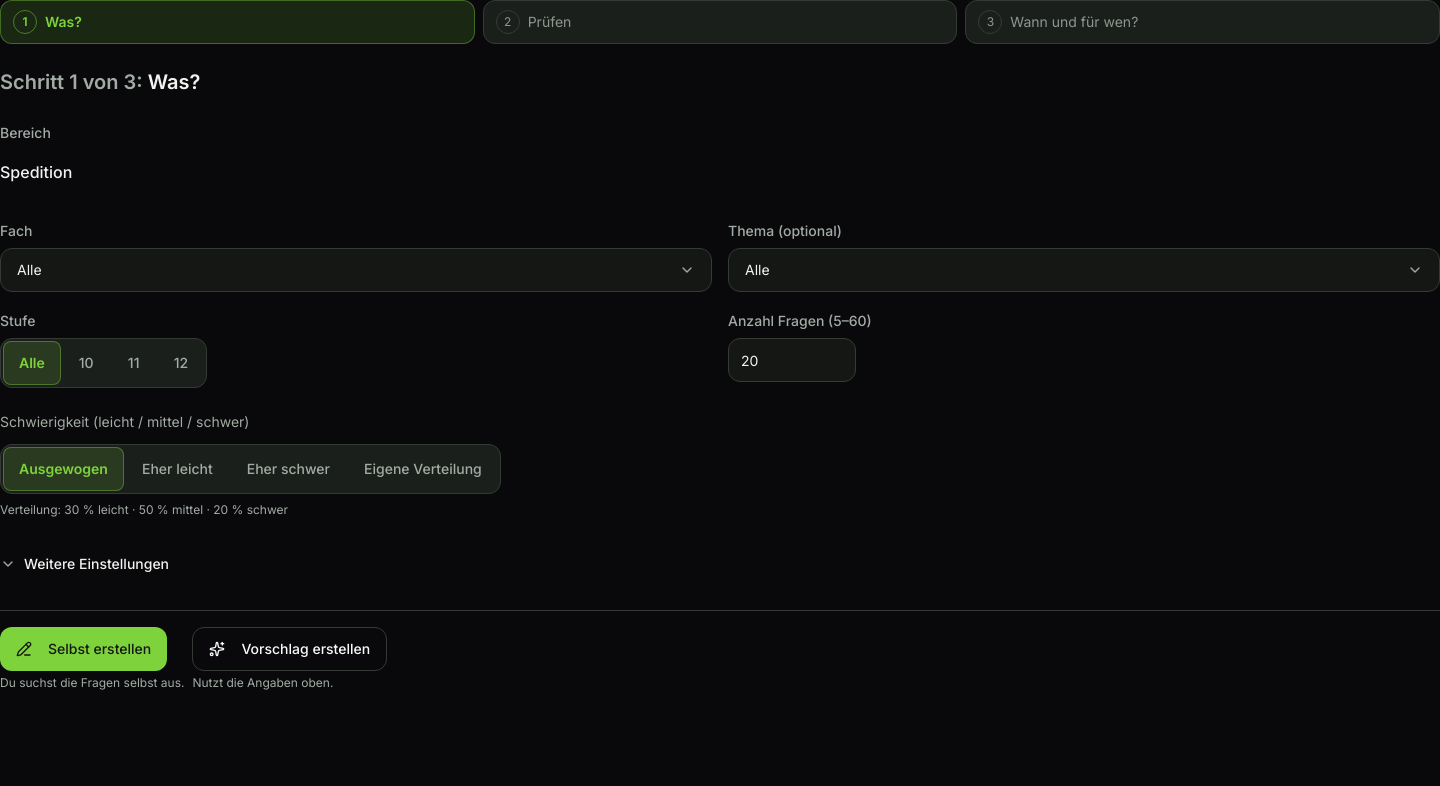
Test: Nachweis anlegen in drei Schritten (PROJ-133) › erlaubt „Weiter“ erst ab 5 Fragen und nennt, wie viele fehlen
Click the button with aria-label "Fach: Alle" at (29, 270), box [0, 248, 712, 292]
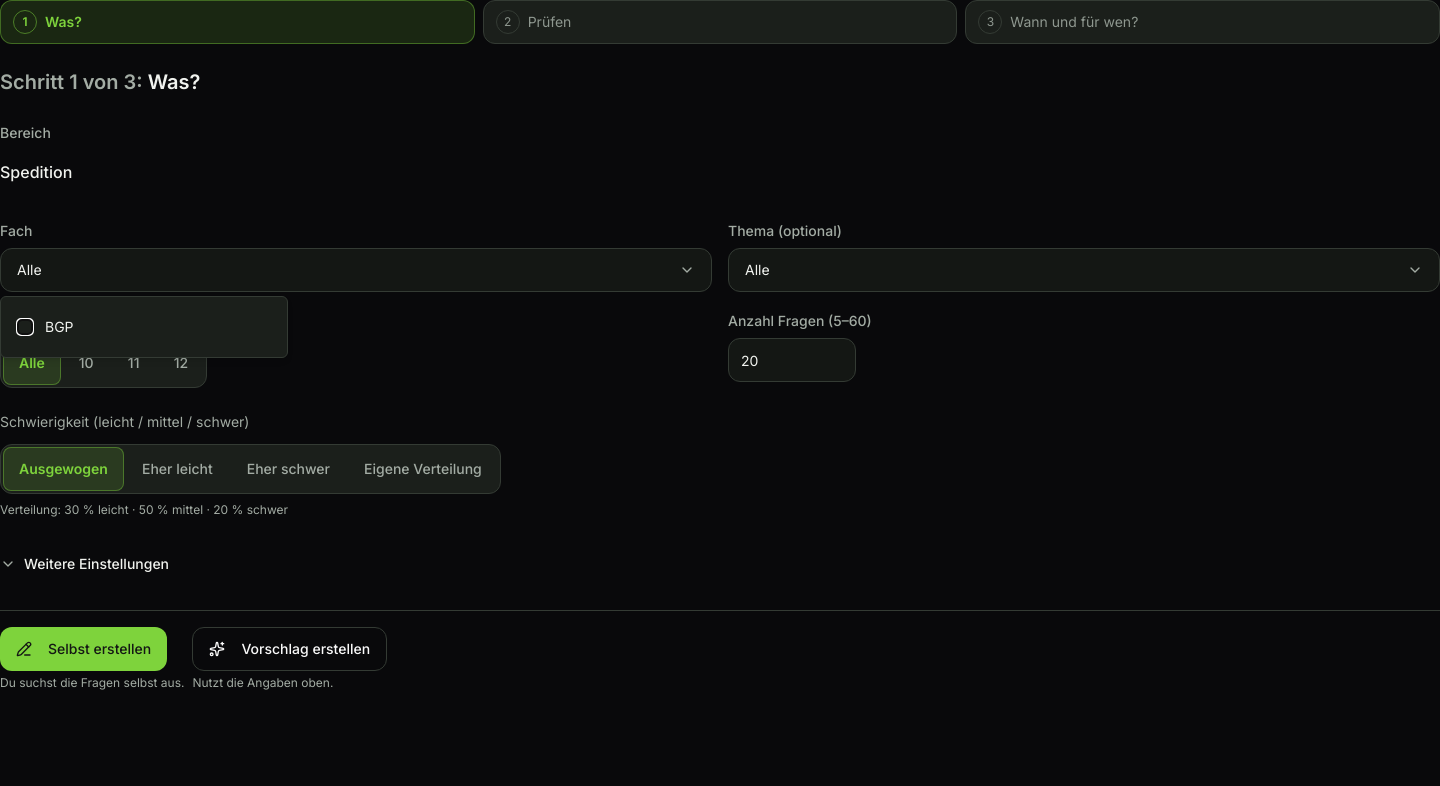
Click the checkbox named "BGP" at (25, 327), box [17, 319, 33, 335]
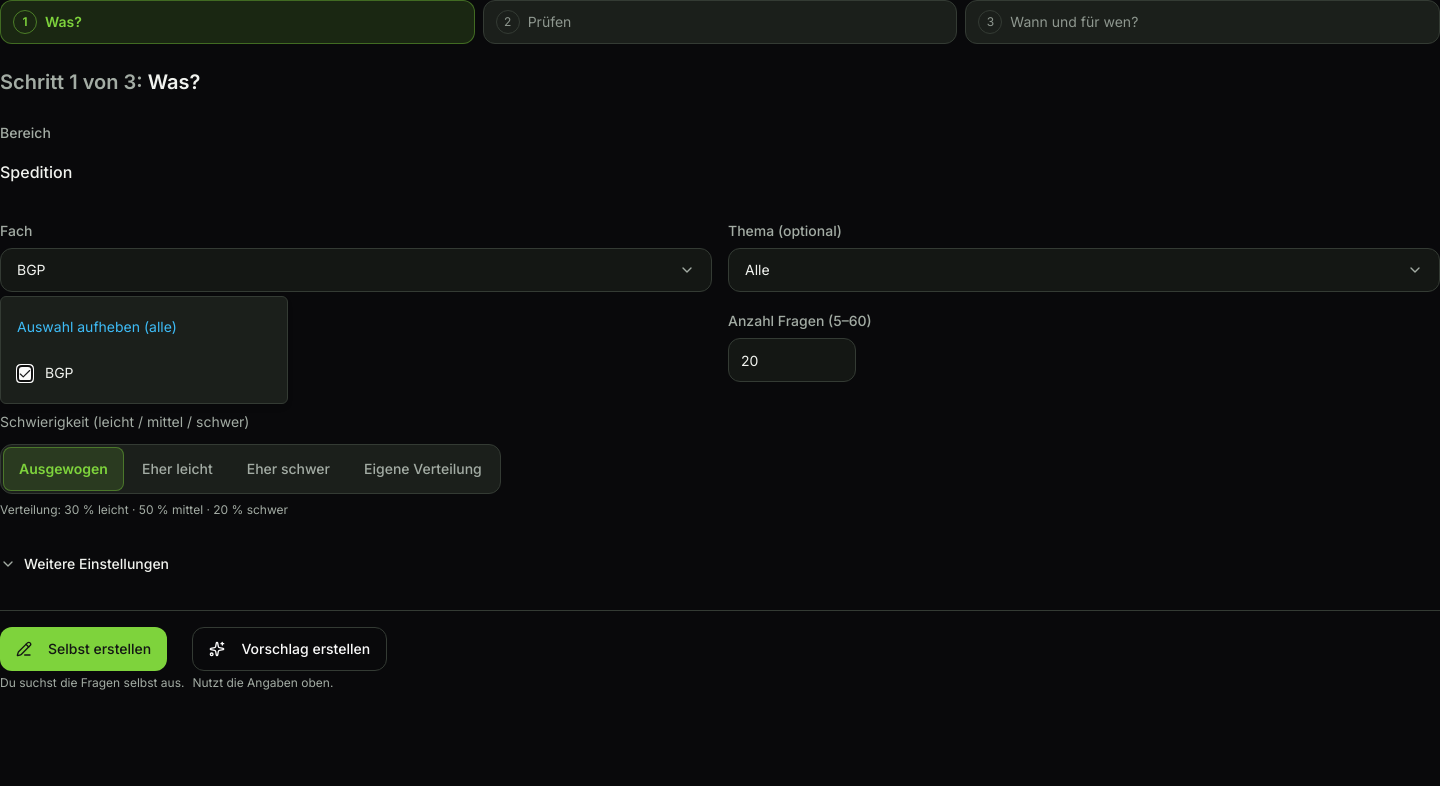
Press Escape in the checkbox named "BGP", box [17, 365, 33, 381]
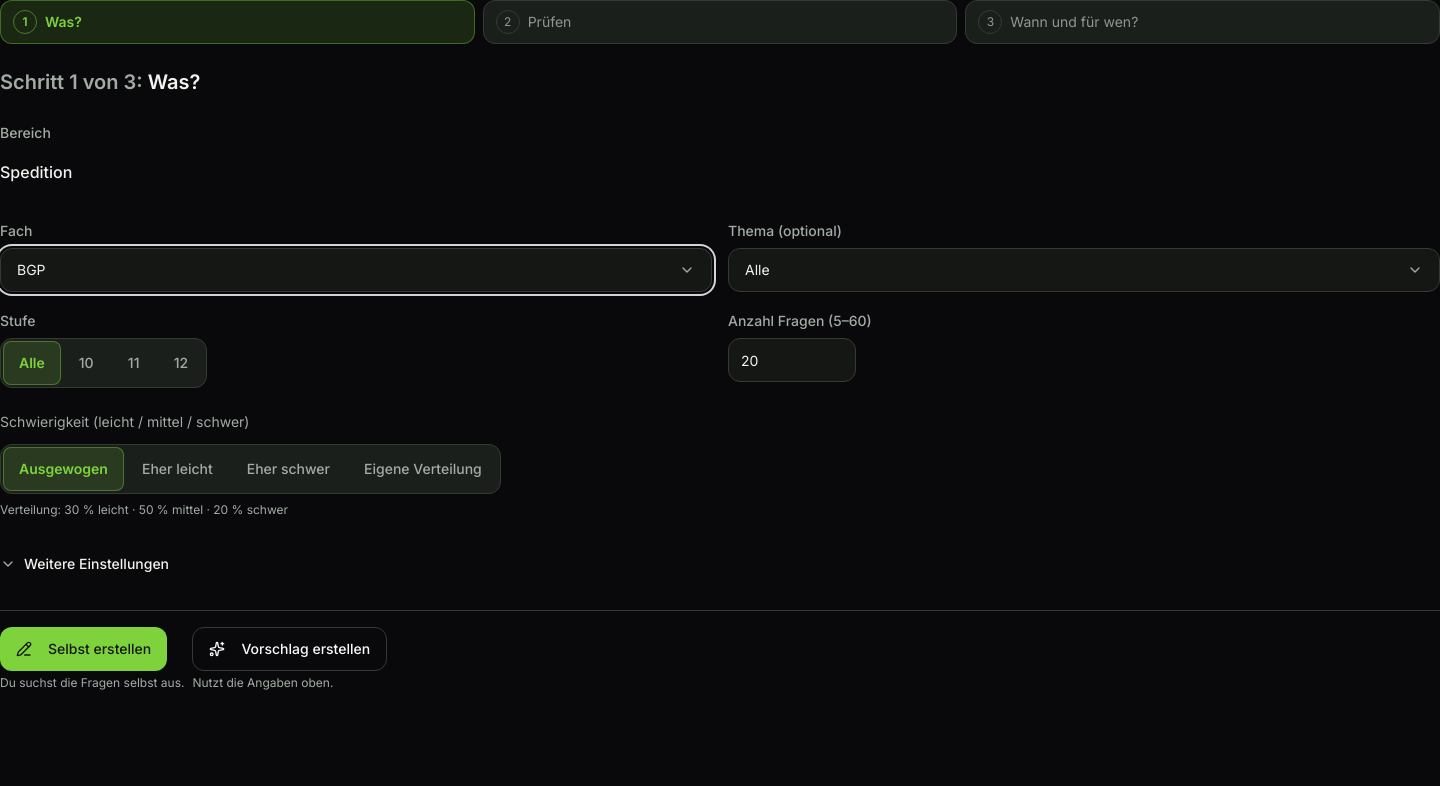
Click the button "Vorschlag erstellen" at (290, 649), box [192, 627, 387, 671]
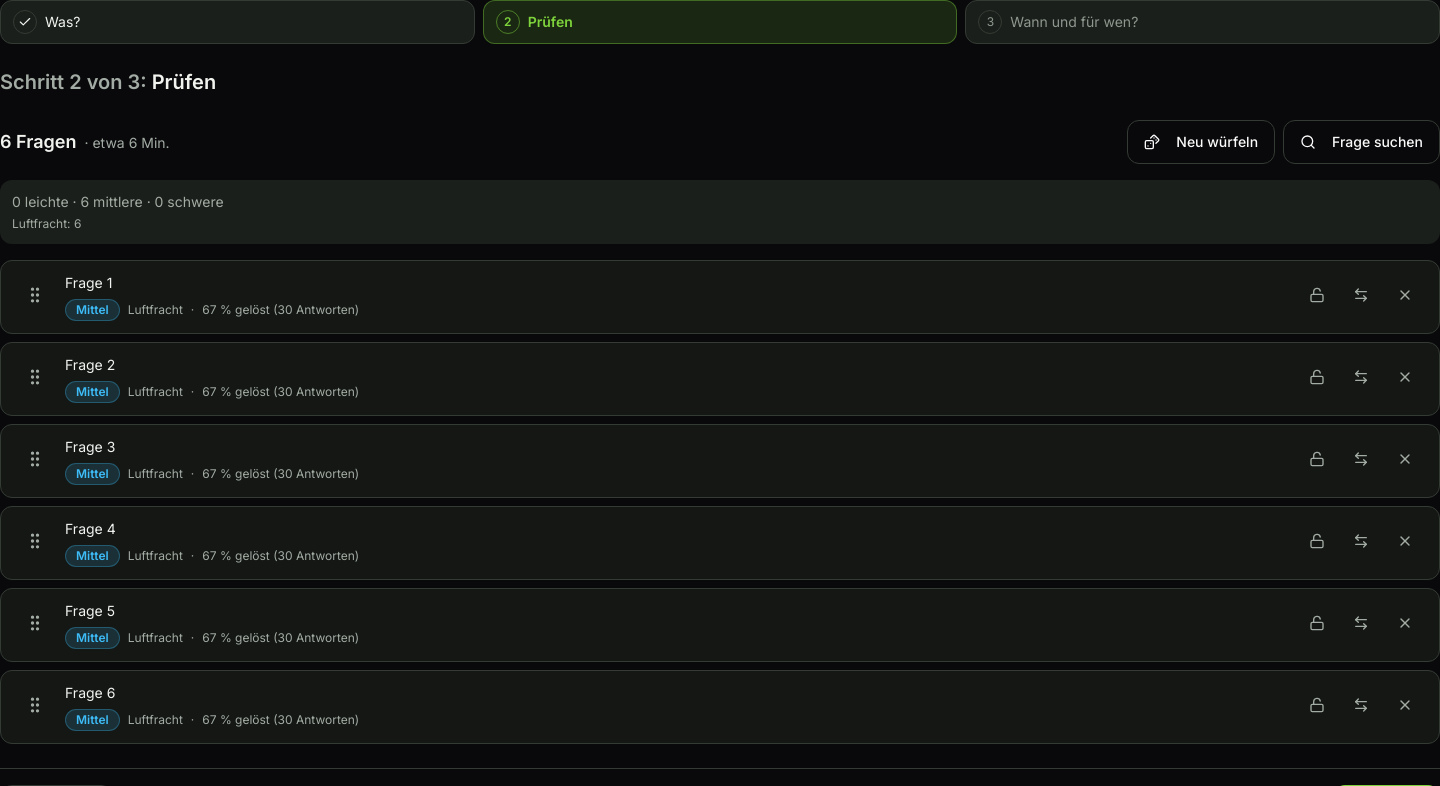
Expected: the text "6 Fragen· etwa 6 Min." is shown, [0, 128, 170, 156]
Click the button named "Frage entfernen" in the row of "Frage 1" at (1405, 295), box [1383, 273, 1427, 317]
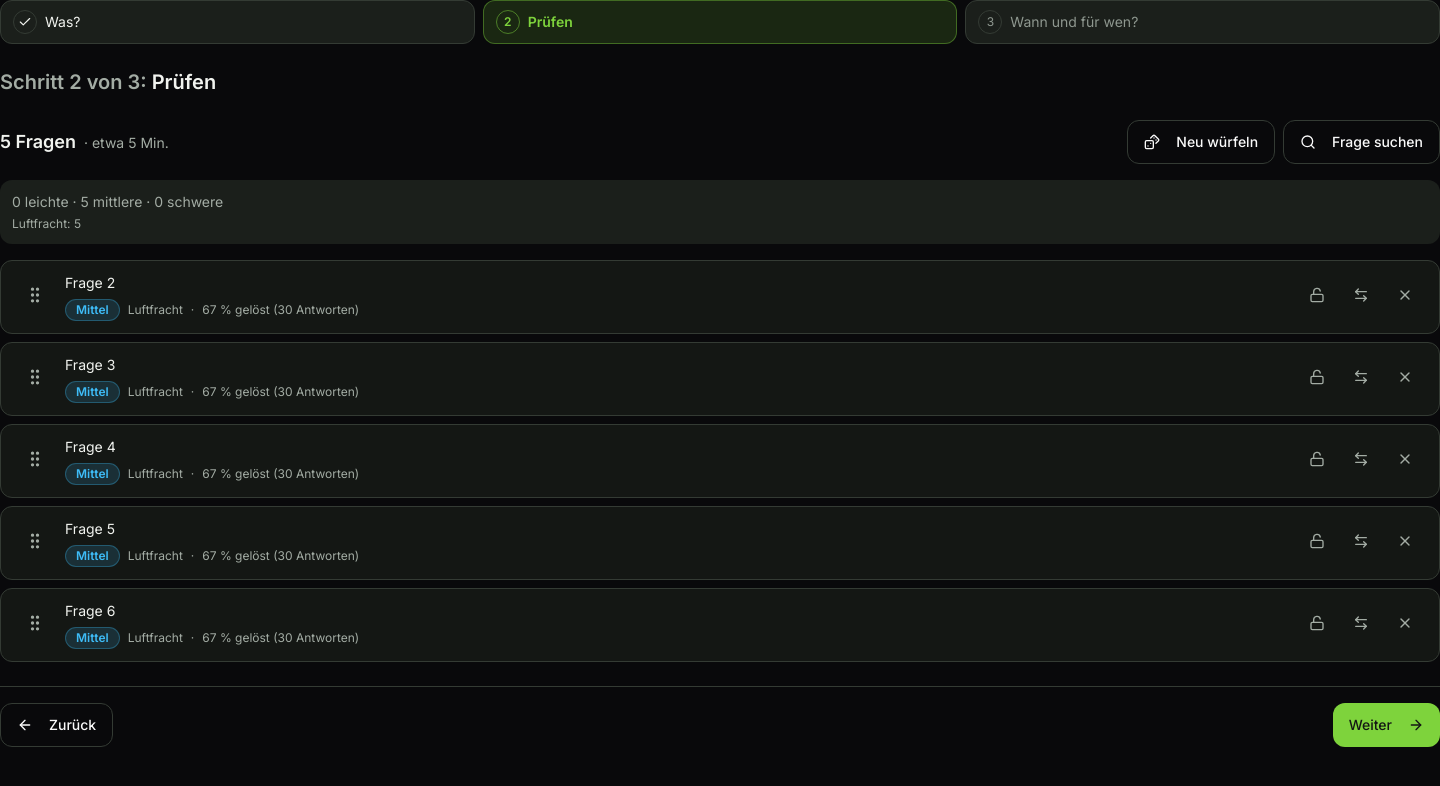
Expected: the button "Weiter" is enabled, [1333, 703, 1439, 747]
Click the button named "Frage entfernen" in the row of "Frage 2" at (1405, 295), box [1383, 273, 1427, 317]
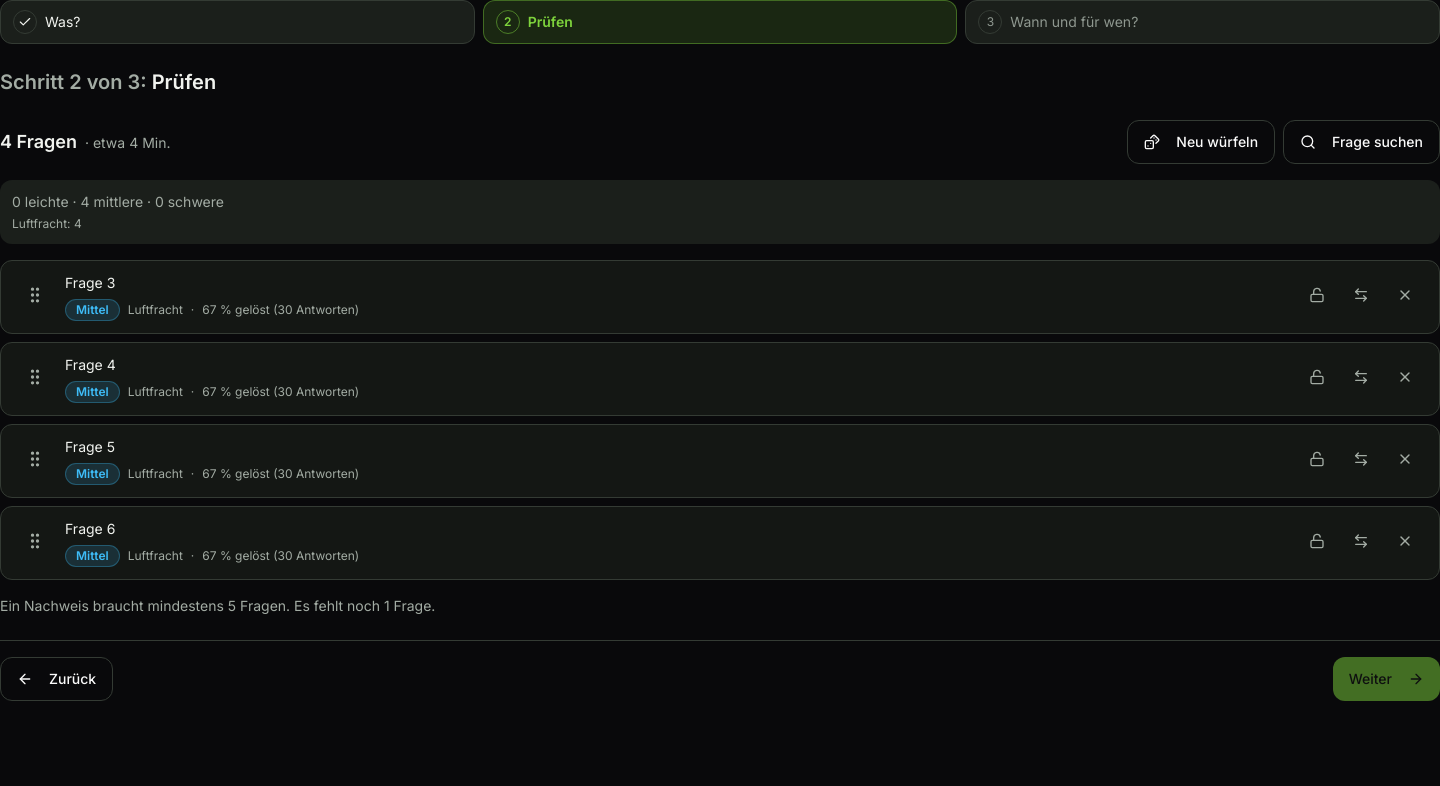
Expected: the button "Weiter" is disabled, [1333, 657, 1439, 701]
Expected: the text "Ein Nachweis braucht mindestens 5 Fragen. Es fehlt noch 1 Frage." is shown, [0, 597, 435, 614]
